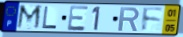1: (91, 6, 101, 32)
E: (67, 5, 90, 32)
F: (141, 6, 165, 33)
L: (41, 6, 58, 30)
M: (15, 4, 44, 31)
R: (117, 6, 141, 33)
